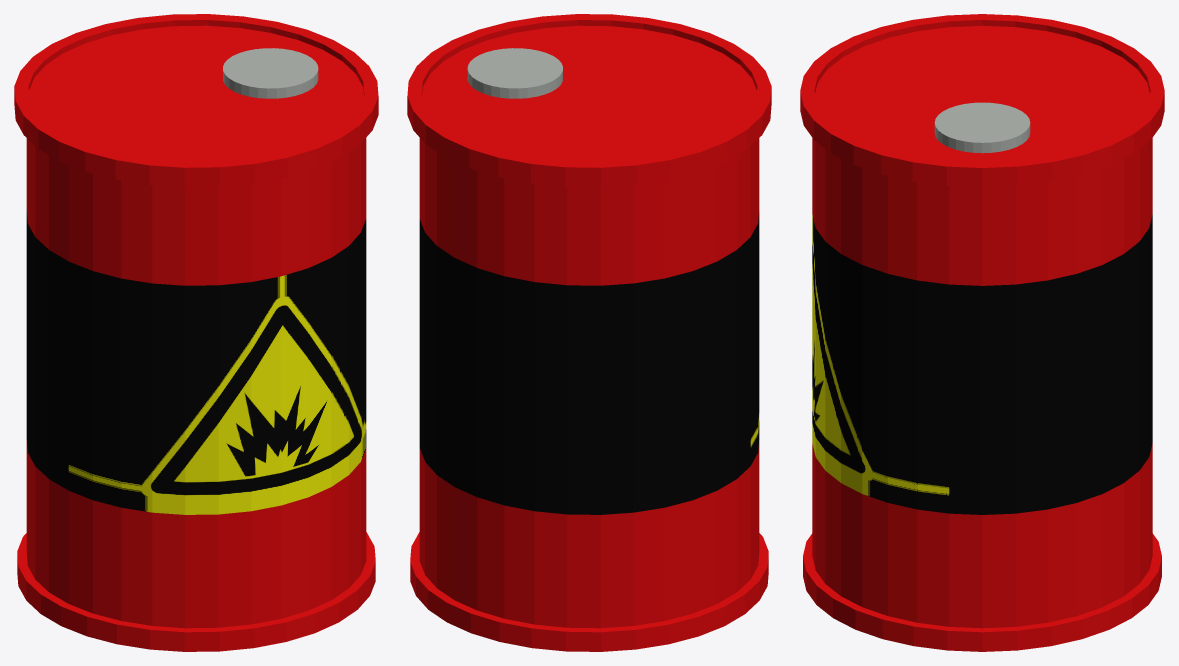
Rendered from gascan.fbx.
3 views of the same model, side by side, from view 1: azimuth 30°, elevation 25°; view 2: azimuth 150°, elevation 25°; view 3: azimuth 270°, elevation 25° (orthographic).
Visible parts, largest first — view 1: Cylinder, Cylinder.001; view 2: Cylinder, Cylinder.001; view 3: Cylinder, Cylinder.001.
Boxes of the visible parts, x1,y1,x2,y2 form: Cylinder: (14,14,378,651); Cylinder.001: (223,48,318,98); Cylinder: (407,14,771,651); Cylinder.001: (467,48,562,98); Cylinder: (800,14,1164,651); Cylinder.001: (934,102,1030,153).
Size of the model in its own units: 241 by 357 by 241.
Materials: 3 (1 with a texture image).
